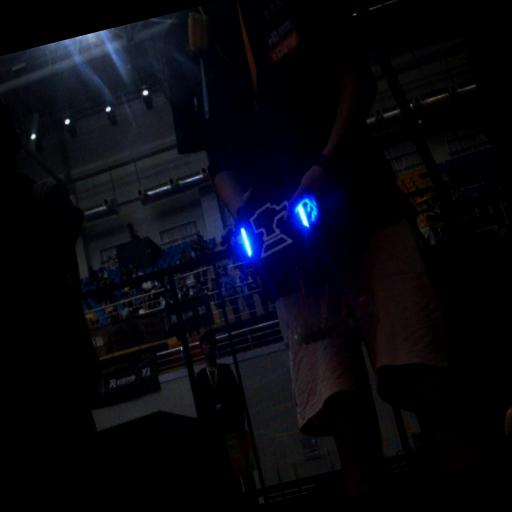target: (225, 173, 330, 282)
